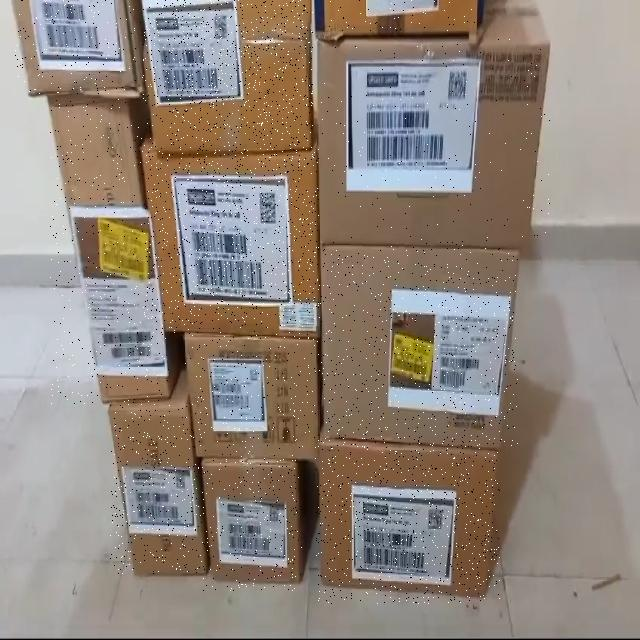BoxFace: (321, 39, 550, 248), (319, 248, 518, 448), (50, 99, 169, 404), (144, 143, 319, 335), (316, 436, 500, 604), (142, 0, 313, 157), (186, 326, 320, 463), (110, 404, 205, 574), (202, 463, 302, 591), (15, 0, 141, 94), (328, 0, 478, 31)
